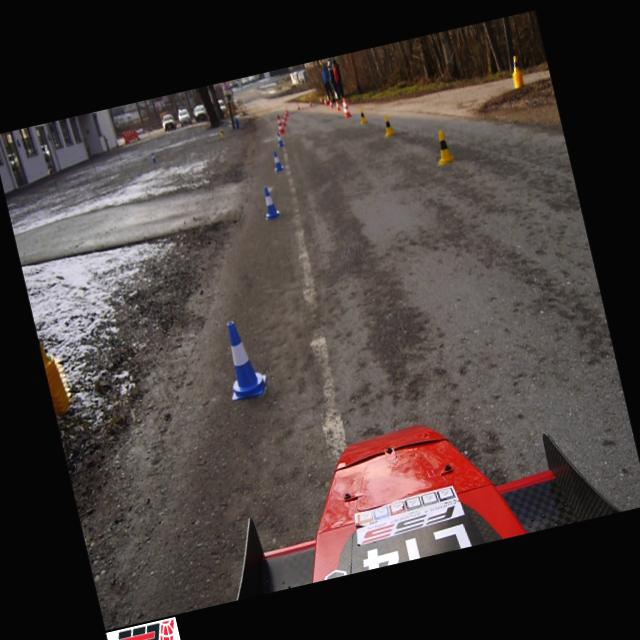blue_cone: (214, 316, 270, 402), (258, 186, 280, 220), (270, 150, 284, 172), (274, 130, 284, 146), (150, 152, 156, 162)
large_orange_cone: (340, 96, 351, 118), (274, 114, 286, 134)
orange_cone: (334, 98, 340, 110), (280, 116, 286, 126), (328, 99, 333, 108), (323, 97, 328, 105), (319, 95, 323, 104), (283, 112, 287, 120), (296, 102, 300, 110), (308, 100, 312, 106), (286, 108, 288, 112)
yellow_cone: (431, 129, 455, 165), (381, 114, 395, 136), (510, 55, 520, 73), (358, 107, 368, 123), (219, 126, 225, 136)
